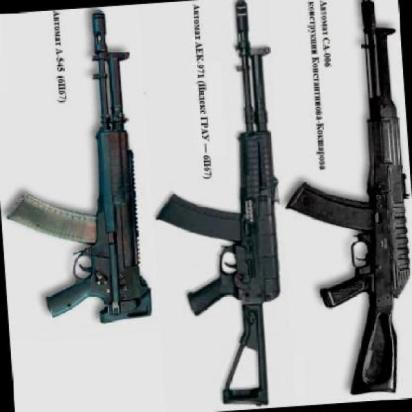Gun: (150, 0, 300, 408), (262, 0, 412, 402), (0, 8, 165, 331)
